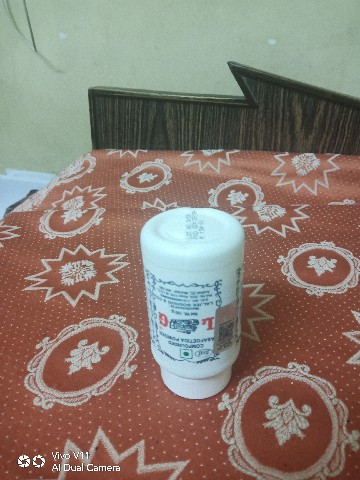lgasafoetidapowder large: (135, 191, 260, 407)
